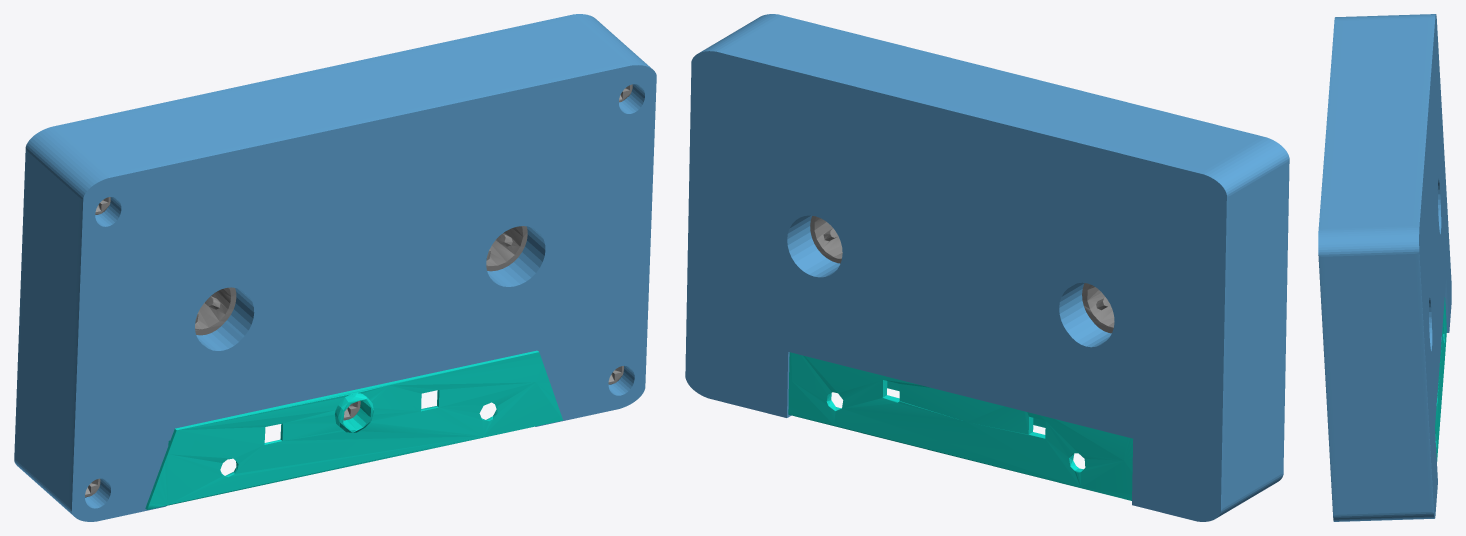
The model's file is disk3.glb.
3 views of the same model, side by side, from view 1: azimuth 30°, elevation 25°; view 2: azimuth 150°, elevation 25°; view 3: azimuth 270°, elevation 25° (orthographic). The views are drawn at different scales.
Parts seen in each view (by area): view 1: WHEELS; view 2: WHEELS; view 3: WHEELS.
Part boxes in pixels (left/top/right/bottom): WHEELS: left=14, top=14, right=656, bottom=521; WHEELS: left=685, top=14, right=1289, bottom=521; WHEELS: left=1318, top=14, right=1451, bottom=521.
Bounding box in the file's own units: 0.3485 × 0.2113 × 0.0858.
